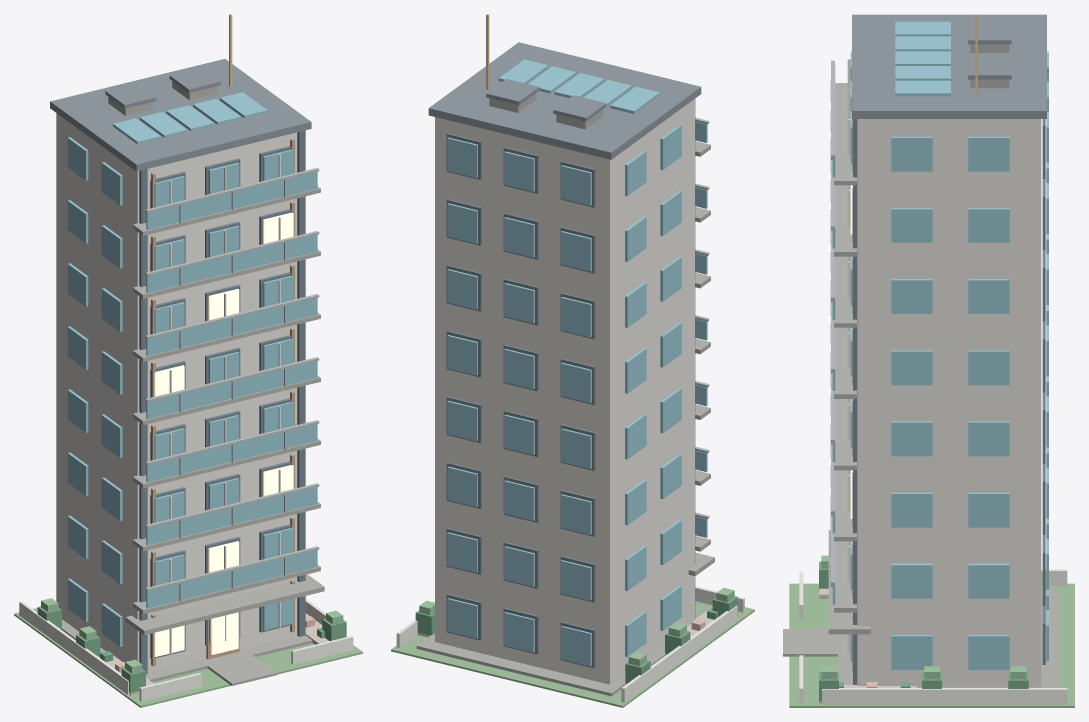
Rendered from building-skyscraper-a.gltf.
3 views of the same model, side by side, from view 1: azimuth 30°, elevation 25°; view 2: azimuth 150°, elevation 25°; view 3: azimuth 270°, elevation 25° (orthographic). The views are drawn at different scales.
Visible parts, largest first — view 1: Wall, BlueGlass, Stone, Dark, DarkRoof, Metal, White, WarmWindow, Grass, Wood, TreeLeaf, LeafLight; view 2: Wall, BlueGlass, DarkRoof, Dark, Stone, Grass, White, TreeLeaf, LeafLight; view 3: Wall, BlueGlass, DarkRoof, Stone, White, Grass, Dark, Metal, TreeLeaf, LeafLight.
Boxes of the visible parts, bbox=[...] form: Wall: bbox=[56, 113, 297, 671]; BlueGlass: bbox=[67, 92, 317, 646]; Stone: bbox=[61, 81, 324, 685]; Dark: bbox=[139, 130, 305, 674]; DarkRoof: bbox=[50, 59, 311, 171]; Metal: bbox=[145, 168, 319, 601]; White: bbox=[19, 154, 353, 701]; WarmWindow: bbox=[154, 212, 293, 656]; Grass: bbox=[14, 608, 362, 707]; Wood: bbox=[151, 138, 294, 666]; TreeLeaf: bbox=[37, 606, 346, 693]; LeafLight: bbox=[41, 598, 343, 673]; Wall: bbox=[435, 99, 694, 684]; BlueGlass: bbox=[447, 59, 707, 666]; DarkRoof: bbox=[428, 42, 701, 159]; Dark: bbox=[446, 99, 695, 668]; Stone: bbox=[416, 93, 714, 696]; Grass: bbox=[391, 601, 754, 707]; White: bbox=[396, 586, 744, 702]; TreeLeaf: bbox=[415, 596, 737, 683]; LeafLight: bbox=[419, 587, 734, 666]; Wall: bbox=[857, 119, 1041, 687]; BlueGlass: bbox=[832, 21, 1048, 669]; DarkRoof: bbox=[852, 14, 1046, 118]; Stone: bbox=[783, 44, 1059, 687]; White: bbox=[799, 59, 1067, 704]; Grass: bbox=[789, 583, 1074, 707]; Dark: bbox=[853, 119, 1045, 684]; Metal: bbox=[830, 60, 834, 586]; TreeLeaf: bbox=[819, 561, 1028, 701]; LeafLight: bbox=[821, 555, 1026, 679].
Bounding box in the file's own units: 10.4 × 26.39 × 10.47.
